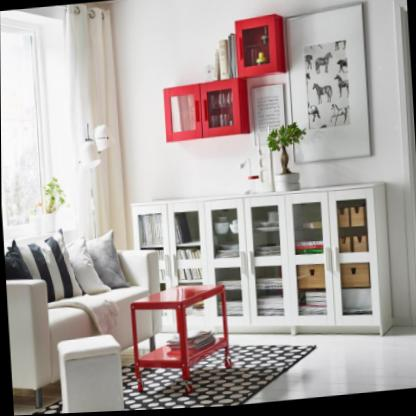Sofa: (2, 223, 167, 412)
Table: (127, 280, 235, 401)
